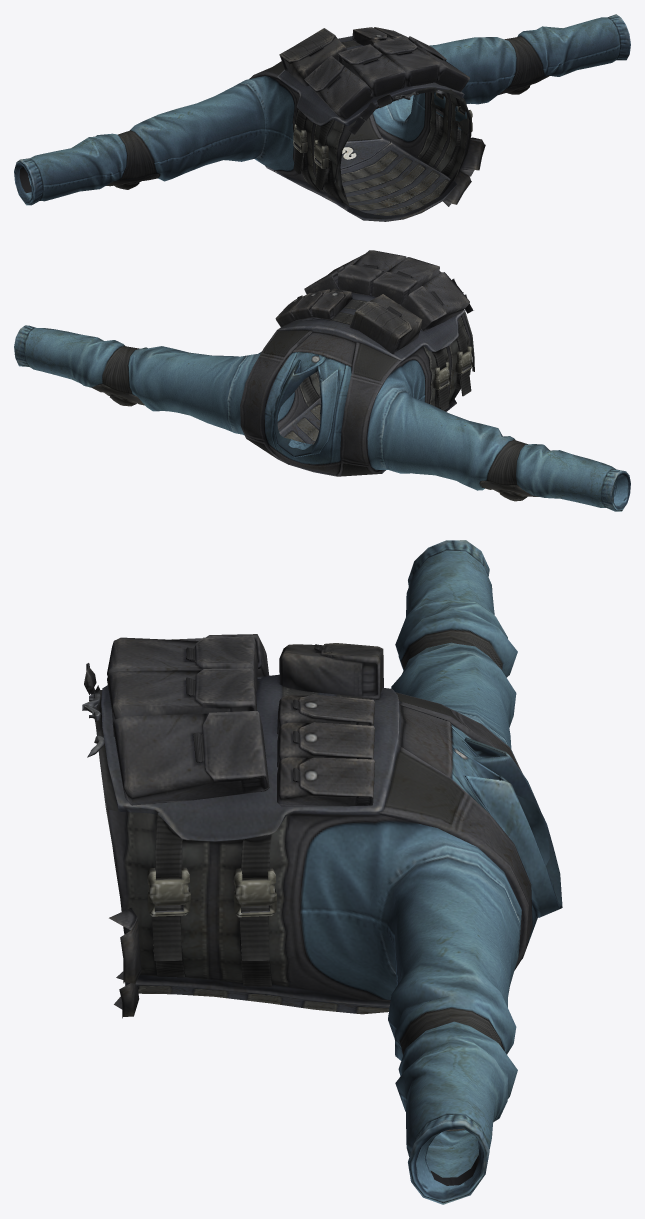
The model's file is pickup_soldier_torso.glb.
3 views of the same model, one above another, from view 1: azimuth 30°, elevation 25°; view 2: azimuth 150°, elevation 25°; view 3: azimuth 270°, elevation 25° (orthographic). The views are drawn at different scales.
Parts seen in each view (by area): view 1: soldier_torso; view 2: soldier_torso; view 3: soldier_torso.
Boxes of the visible parts, bbox=[...] form: soldier_torso: bbox=[14, 14, 630, 221]; soldier_torso: bbox=[14, 250, 630, 511]; soldier_torso: bbox=[82, 540, 562, 1204].
Bounding box in the file's own units: 3 × 0.7559 × 1.04.
1 material, 1 textured.
